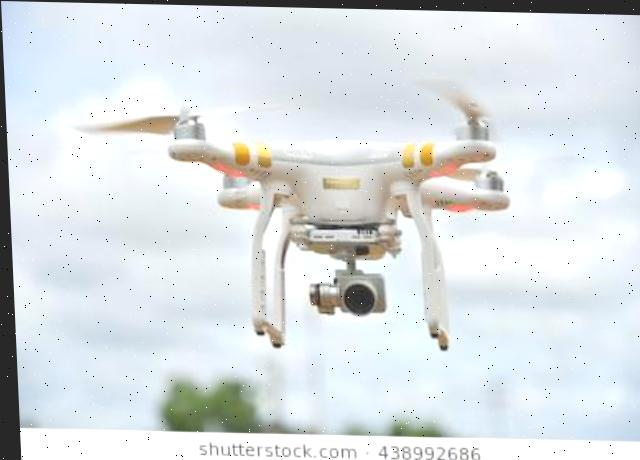drone: (124, 55, 563, 373)
